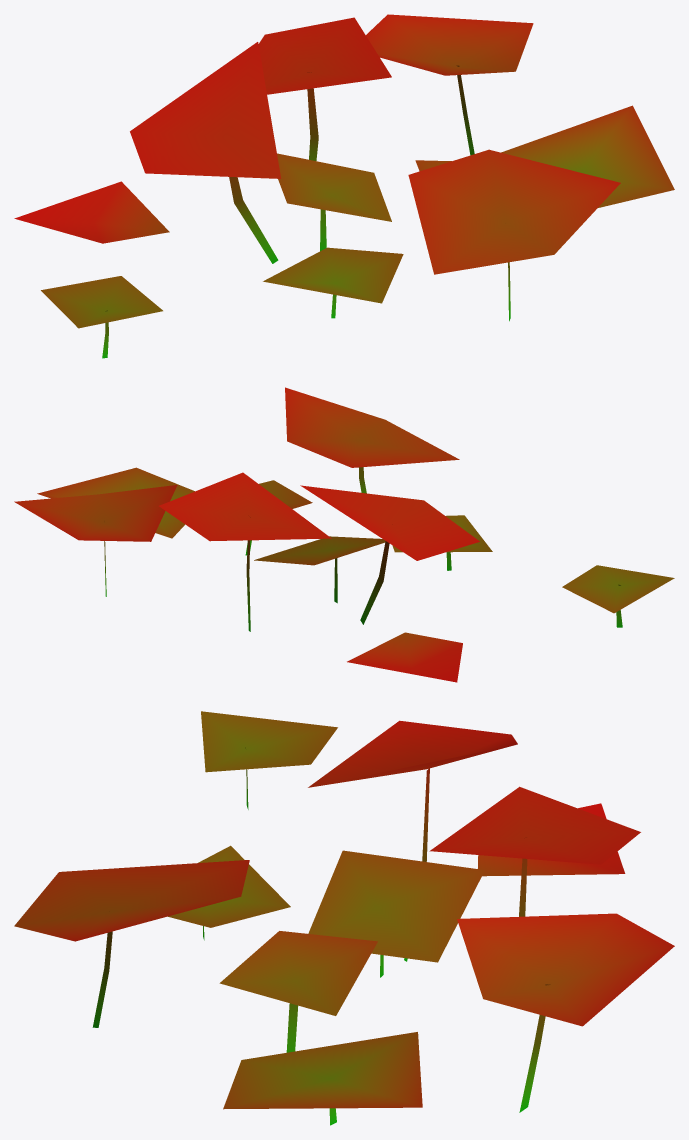
The model's file is Var1_LOD2.fbx.
3 renders of one model, top to bottom at view 1: azimuth 30°, elevation 25°; view 2: azimuth 150°, elevation 25°; view 3: azimuth 270°, elevation 25°, orthographic. The views are drawn at different scales.
Visible parts, largest first — view 1: _6955_Var1_LOD2; view 2: _6955_Var1_LOD2; view 3: _6955_Var1_LOD2.
Boxes of the visible parts, x1,y1,x2,y2 form: _6955_Var1_LOD2: [14, 14, 674, 358]; _6955_Var1_LOD2: [14, 387, 674, 682]; _6955_Var1_LOD2: [14, 711, 674, 1125].
Bounding box in the file's own units: 27 × 7.41 × 18.83.
